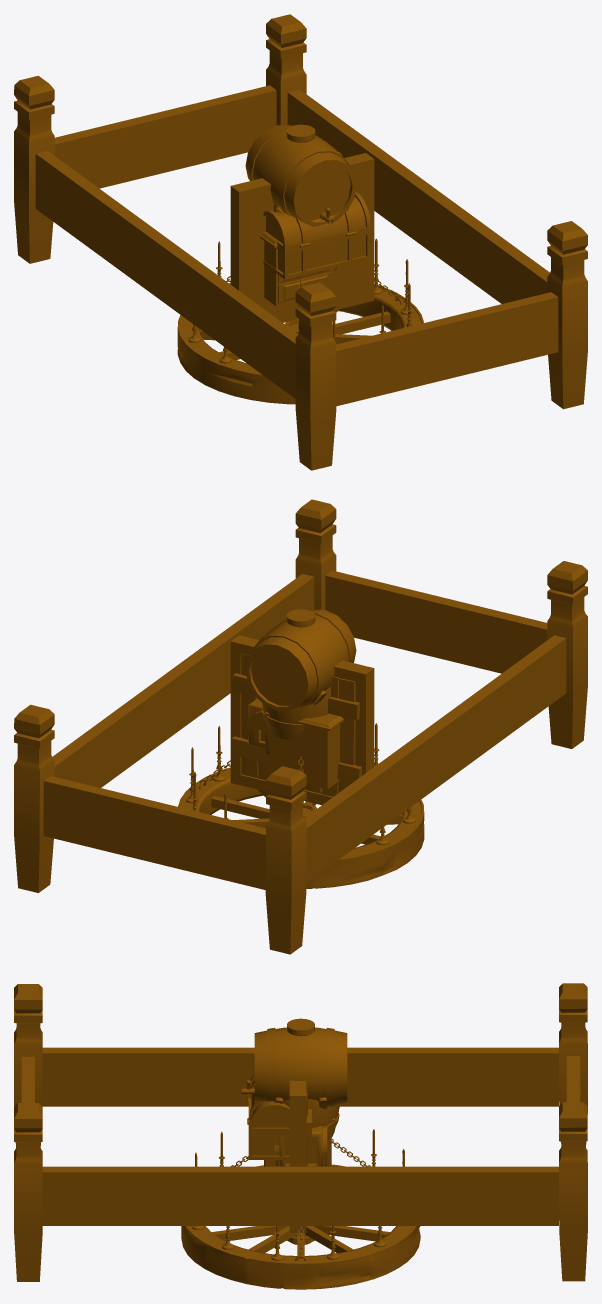
Rendered from 02WOOD002.fbx.
3 views of the same model, one above another, from view 1: azimuth 30°, elevation 25°; view 2: azimuth 150°, elevation 25°; view 3: azimuth 270°, elevation 25° (orthographic). The views are drawn at different scales.
Visible parts, largest first — view 1: BED1, CHANDELIER, WINDOW1, BARREL_WITH_STAND, Chest, DESK; view 2: BED1, WINDOW1, CHANDELIER, BARREL_WITH_STAND, DESK, BARREL; view 3: BED1, CHANDELIER, BARREL_WITH_STAND, Chest, WINDOW1, crate1, BARREL.
Part boxes in pixels (x1,y1,x2,y2): BED1: (14, 14, 587, 470); CHANDELIER: (177, 124, 423, 404); WINDOW1: (230, 153, 374, 322); BARREL_WITH_STAND: (245, 125, 356, 226); Chest: (263, 191, 370, 279); DESK: (260, 232, 333, 306); BED1: (14, 499, 587, 954); WINDOW1: (230, 635, 374, 805); CHANDELIER: (178, 609, 424, 888); BARREL_WITH_STAND: (245, 609, 356, 730); DESK: (264, 712, 343, 789); BARREL: (262, 686, 331, 741); BED1: (14, 983, 587, 1281); CHANDELIER: (181, 1018, 420, 1289); BARREL_WITH_STAND: (242, 1027, 347, 1151); Chest: (247, 1073, 289, 1159); WINDOW1: (289, 1080, 312, 1232); crate1: (279, 1126, 322, 1166); BARREL: (283, 1099, 339, 1140).
Size of the model in its own units: 219 by 168 by 405.
